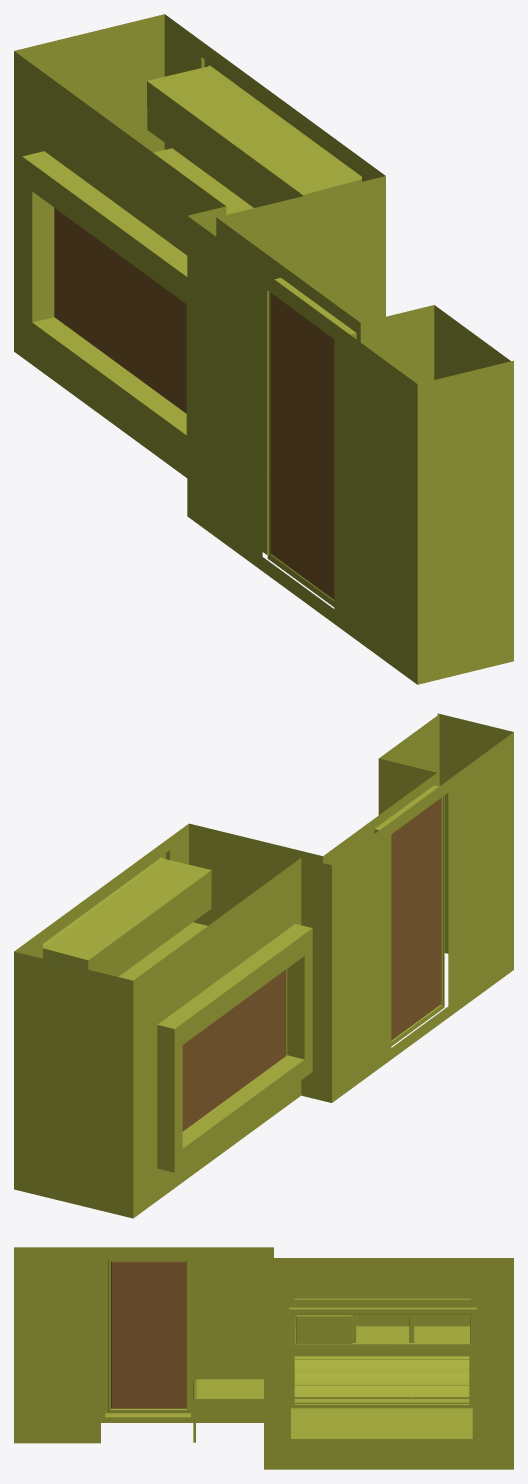
The model's file is m_Apartment_Wall_WindowBed_01.fbx.
The picture shows the model from 3 angles, top to bottom: view 1: azimuth 30°, elevation 25°; view 2: azimuth 150°, elevation 25°; view 3: azimuth 270°, elevation 25°; orthographic projection. The views are drawn at different scales.
Parts seen in each view (by area): view 1: polySurface29, polySurface30, polySurface37, polySurface36, polySurface22, pCube15, polySurface23, polySurface34; view 2: polySurface29, polySurface30, polySurface22, polySurface36, pCube15, polySurface37, polySurface34, polySurface23; view 3: polySurface34, polySurface23, polySurface37, polySurface29, polySurface36, polySurface32, polySurface22, polySurface33, polySurface19, pCube12, polySurface11, polySurface25 (+1 smaller).
Part boxes in pixels (x1,y1,x2,y2): polySurface29: [14, 14, 513, 684]; polySurface30: [22, 151, 187, 458]; polySurface37: [216, 176, 385, 606]; polySurface36: [270, 293, 334, 599]; polySurface22: [147, 57, 361, 207]; pCube15: [54, 208, 186, 413]; polySurface23: [360, 305, 510, 383]; polySurface34: [153, 14, 385, 214]; polySurface29: [14, 713, 513, 1218]; polySurface30: [157, 924, 312, 1172]; polySurface22: [43, 850, 211, 976]; polySurface36: [391, 798, 441, 1040]; pCube15: [182, 969, 286, 1131]; polySurface37: [189, 773, 444, 1046]; polySurface34: [14, 824, 287, 1055]; polySurface23: [378, 714, 439, 814]; polySurface34: [264, 1299, 513, 1469]; polySurface23: [14, 1273, 100, 1443]; polySurface37: [101, 1253, 263, 1422]; polySurface29: [14, 1247, 513, 1299]; polySurface36: [111, 1261, 186, 1408]; polySurface32: [294, 1356, 469, 1397]; polySurface22: [289, 1298, 476, 1349]; polySurface33: [291, 1356, 472, 1408]; polySurface19: [193, 1379, 263, 1442]; pCube12: [296, 1315, 352, 1343]; polySurface11: [108, 1260, 189, 1411]; polySurface25: [294, 1397, 469, 1401].
Size of the model in its own units: 206 by 300 by 800.
